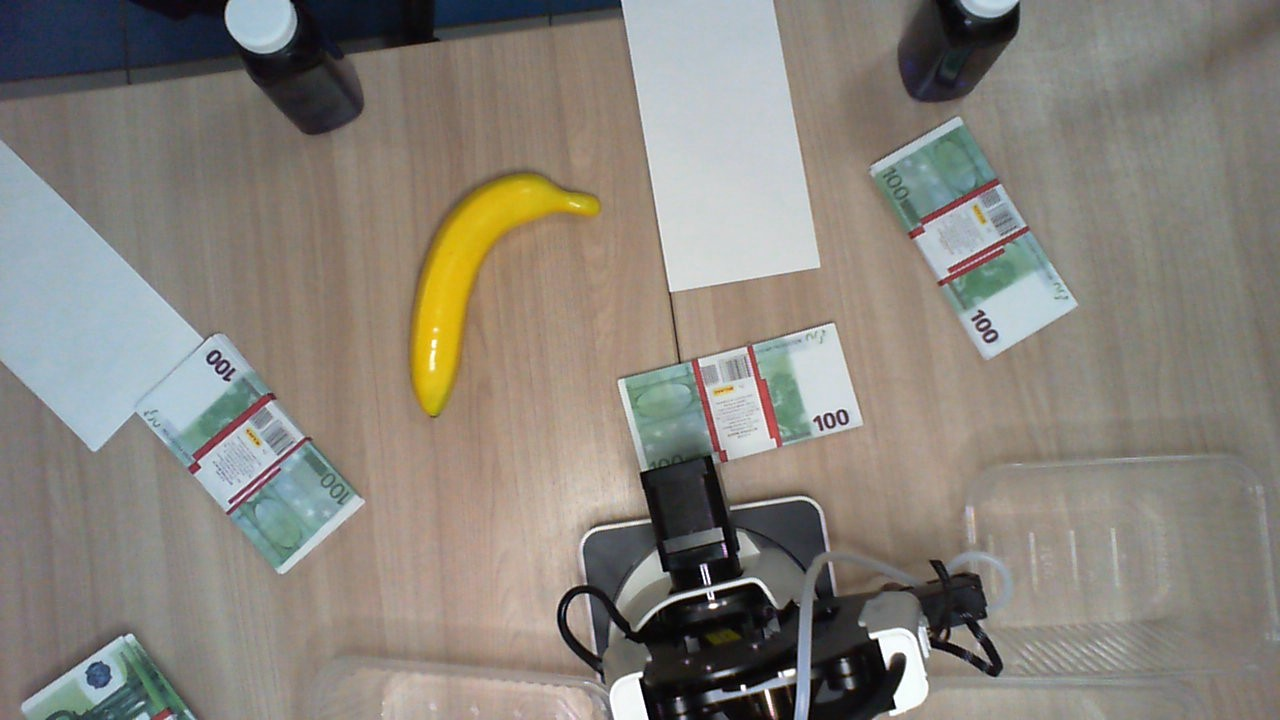banana: (393, 160, 607, 425)
bottle: (221, 1, 312, 79), (916, 1, 1027, 45)
convert: (1, 144, 208, 453), (615, 1, 821, 287)
money: (131, 331, 365, 574), (863, 115, 1074, 355), (614, 320, 868, 505), (18, 627, 203, 720)
